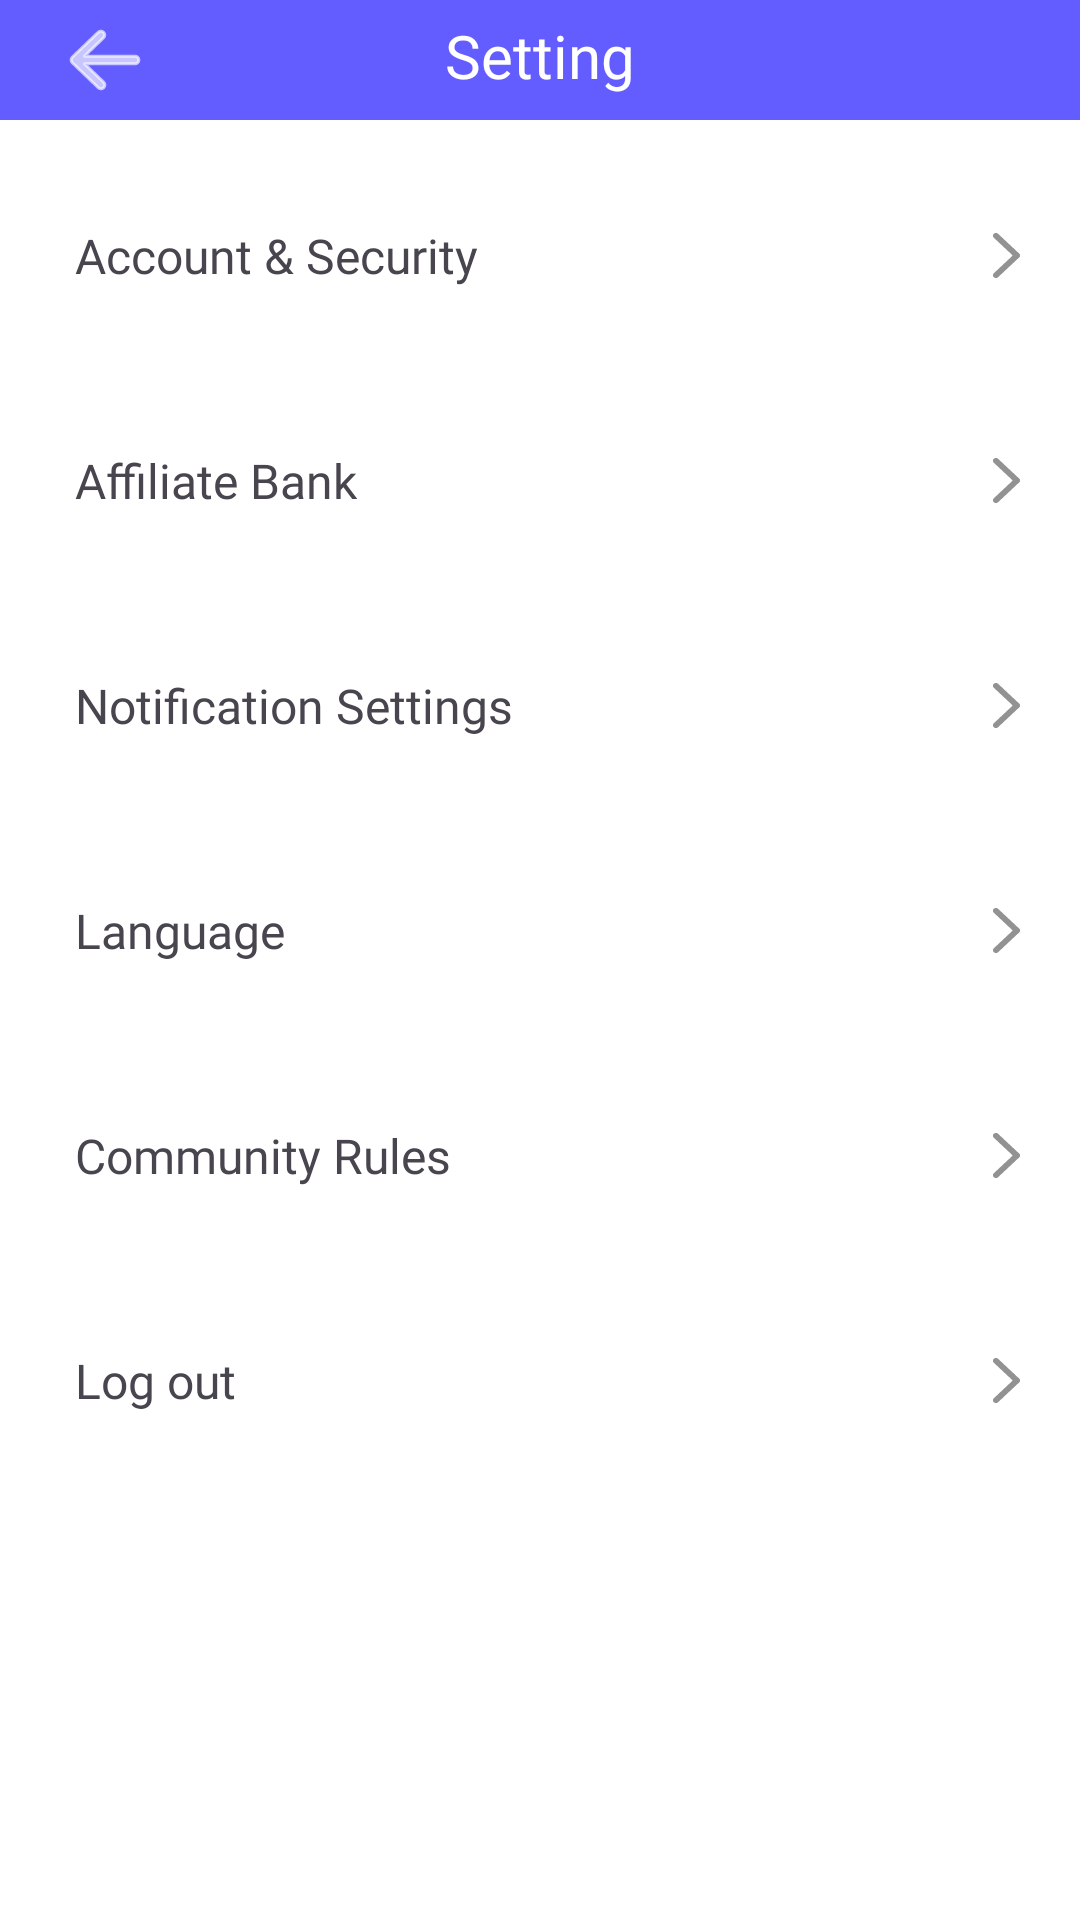

Screen size 1080×1920. Icon name, then its center in pixels as [x,y]:
back: [105,60]
right arrow: [1006,255], [1006,480], [1006,705], [1006,930], [1006,1155], [1006,1380]
